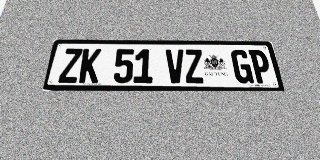1: (133, 49, 153, 83)
5: (113, 49, 134, 83)
G: (230, 50, 254, 83)
K: (78, 49, 102, 83)
P: (248, 50, 273, 83)
V: (166, 49, 185, 83)
Z: (58, 48, 83, 83), (184, 49, 205, 83)
